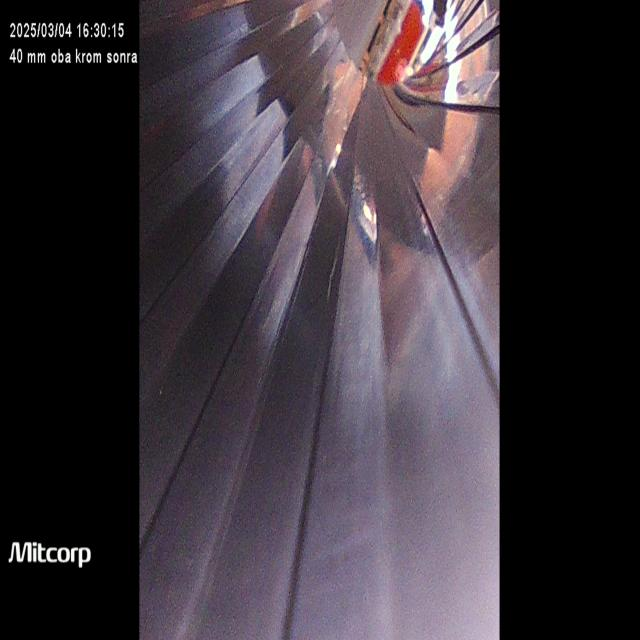hata_4.2: (350, 165, 473, 289)
